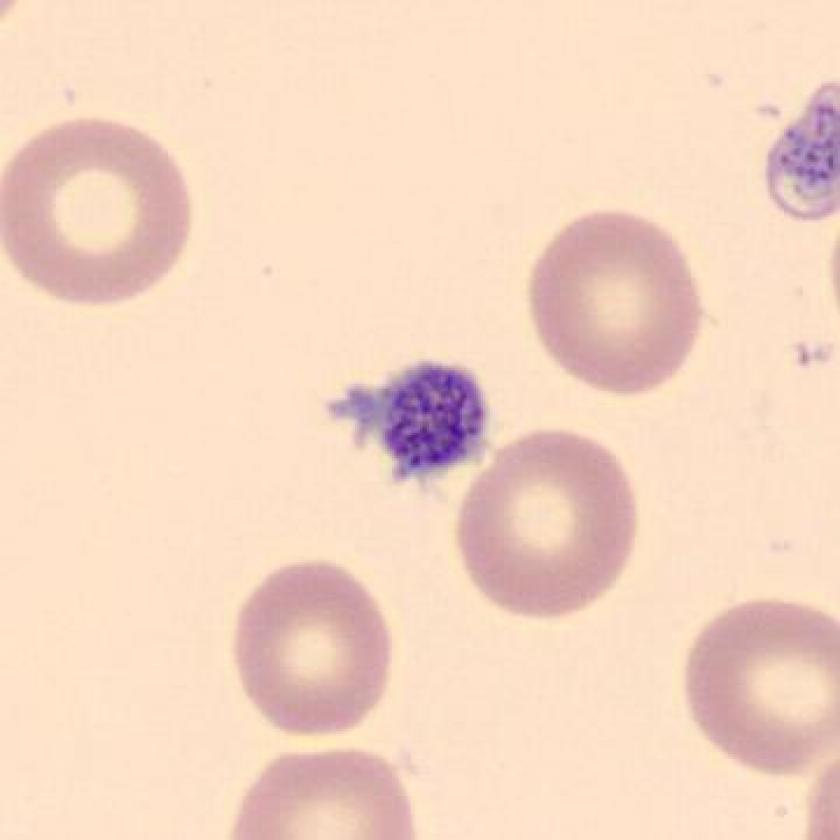platelets: (328, 358, 500, 499), (757, 73, 840, 228)
